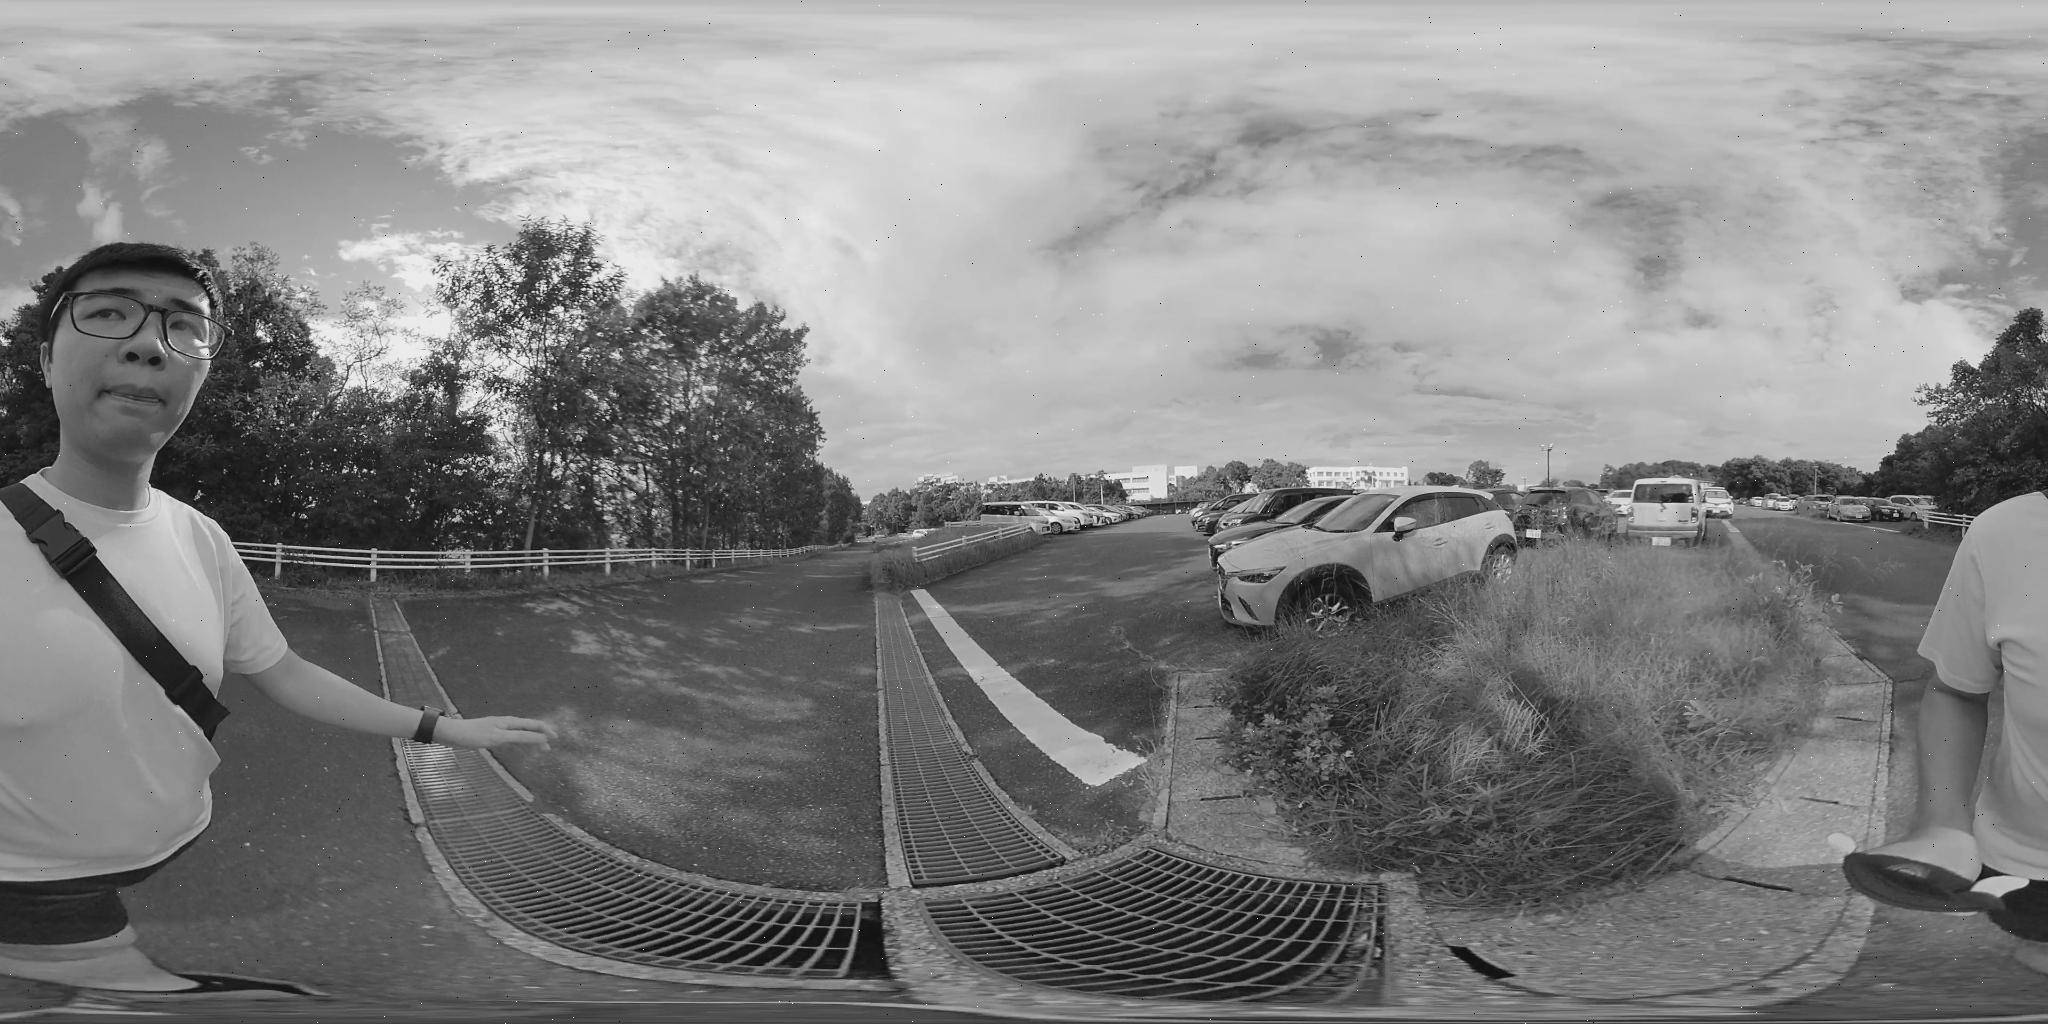car: (1207, 488, 1529, 636), (1206, 486, 1358, 542), (1027, 502, 1100, 530), (1826, 498, 1890, 521), (1699, 488, 1738, 515), (978, 502, 1033, 519), (1084, 507, 1135, 525), (1754, 495, 1796, 511)
